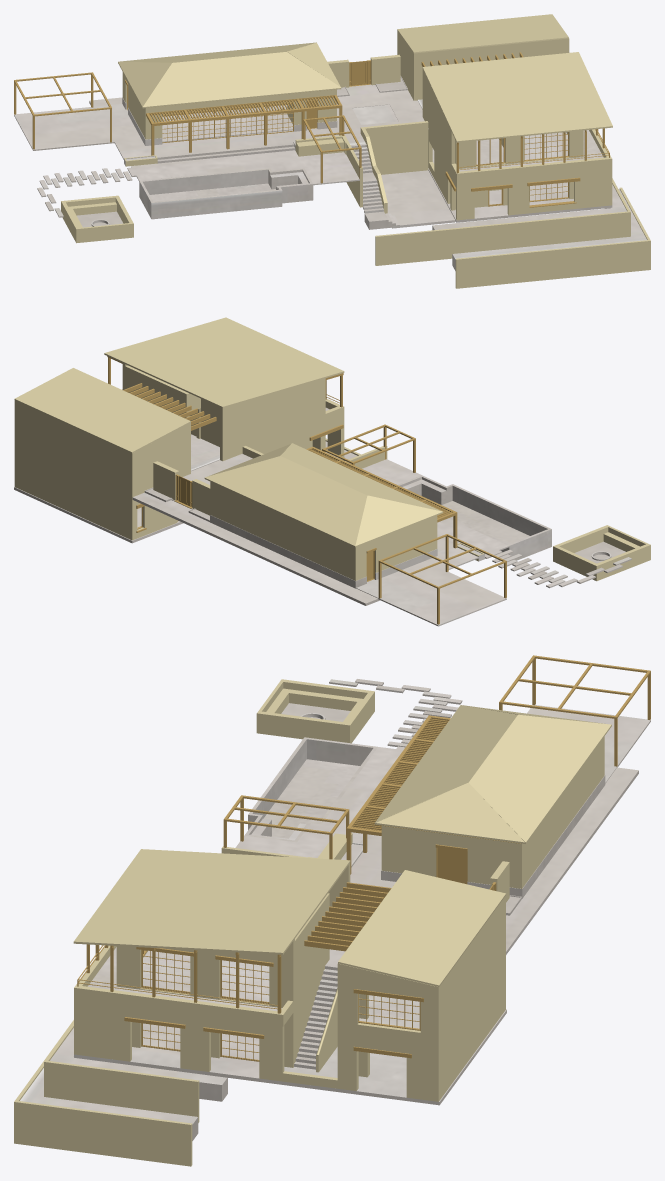
Rendered from Casona04.glb.
The picture shows the model from 3 angles, top to bottom: view 1: azimuth 30°, elevation 25°; view 2: azimuth 150°, elevation 25°; view 3: azimuth 270°, elevation 25°; orthographic projection. The views are drawn at different scales.
Visible parts, largest first — view 1: CA04_02_Wall, CA04_02_Floor, CA04_02_Roof, CA04_02_Wood, CA04_02_Floor02; view 2: CA04_02_Wall, CA04_02_Roof, CA04_02_Floor, CA04_02_Wood, CA04_02_Floor02; view 3: CA04_02_Wall, CA04_02_Roof, CA04_02_Floor, CA04_02_Wood, CA04_02_Floor02.
Part boxes in pixels (x1=…): CA04_02_Wall: x1=61, y1=31, x2=650, y2=288; CA04_02_Floor: x1=14, y1=76, x2=646, y2=270; CA04_02_Roof: x1=118, y1=14, x2=612, y2=142; CA04_02_Wood: x1=14, y1=52, x2=609, y2=207; CA04_02_Floor02: x1=139, y1=99, x2=603, y2=219; CA04_02_Wall: x1=14, y1=363, x2=650, y2=581; CA04_02_Roof: x1=14, y1=317, x2=443, y2=547; CA04_02_Floor: x1=14, y1=441, x2=631, y2=626; CA04_02_Wood: x1=107, y1=356, x2=506, y2=624; CA04_02_Floor02: x1=191, y1=407, x2=551, y2=560; CA04_02_Wall: x1=14, y1=679, x2=604, y2=1166; CA04_02_Roof: x1=73, y1=705, x2=611, y2=986; CA04_02_Floor: x1=20, y1=679, x2=650, y2=1140; CA04_02_Wood: x1=77, y1=655, x2=650, y2=1061; CA04_02_Floor02: x1=88, y1=737, x2=419, y2=1069.
Size of the model in its own units: 47.8 by 13.05 by 34.63.
Materials: 3 (1 with a texture image).
